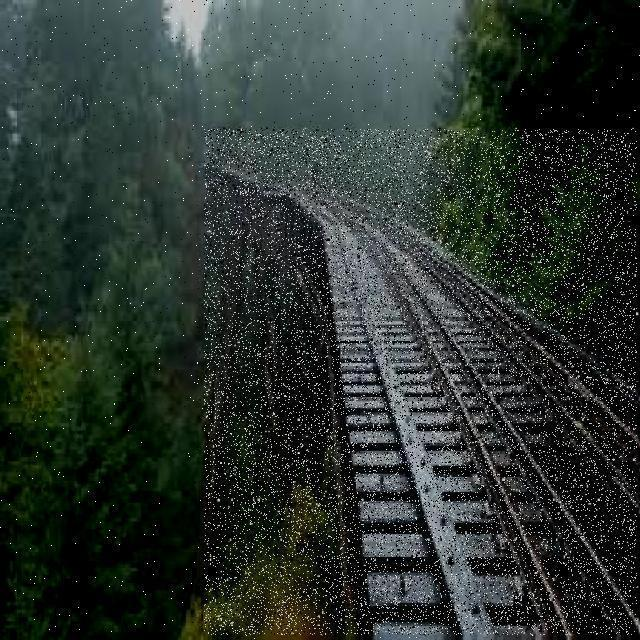rail: (206, 130, 638, 636)
